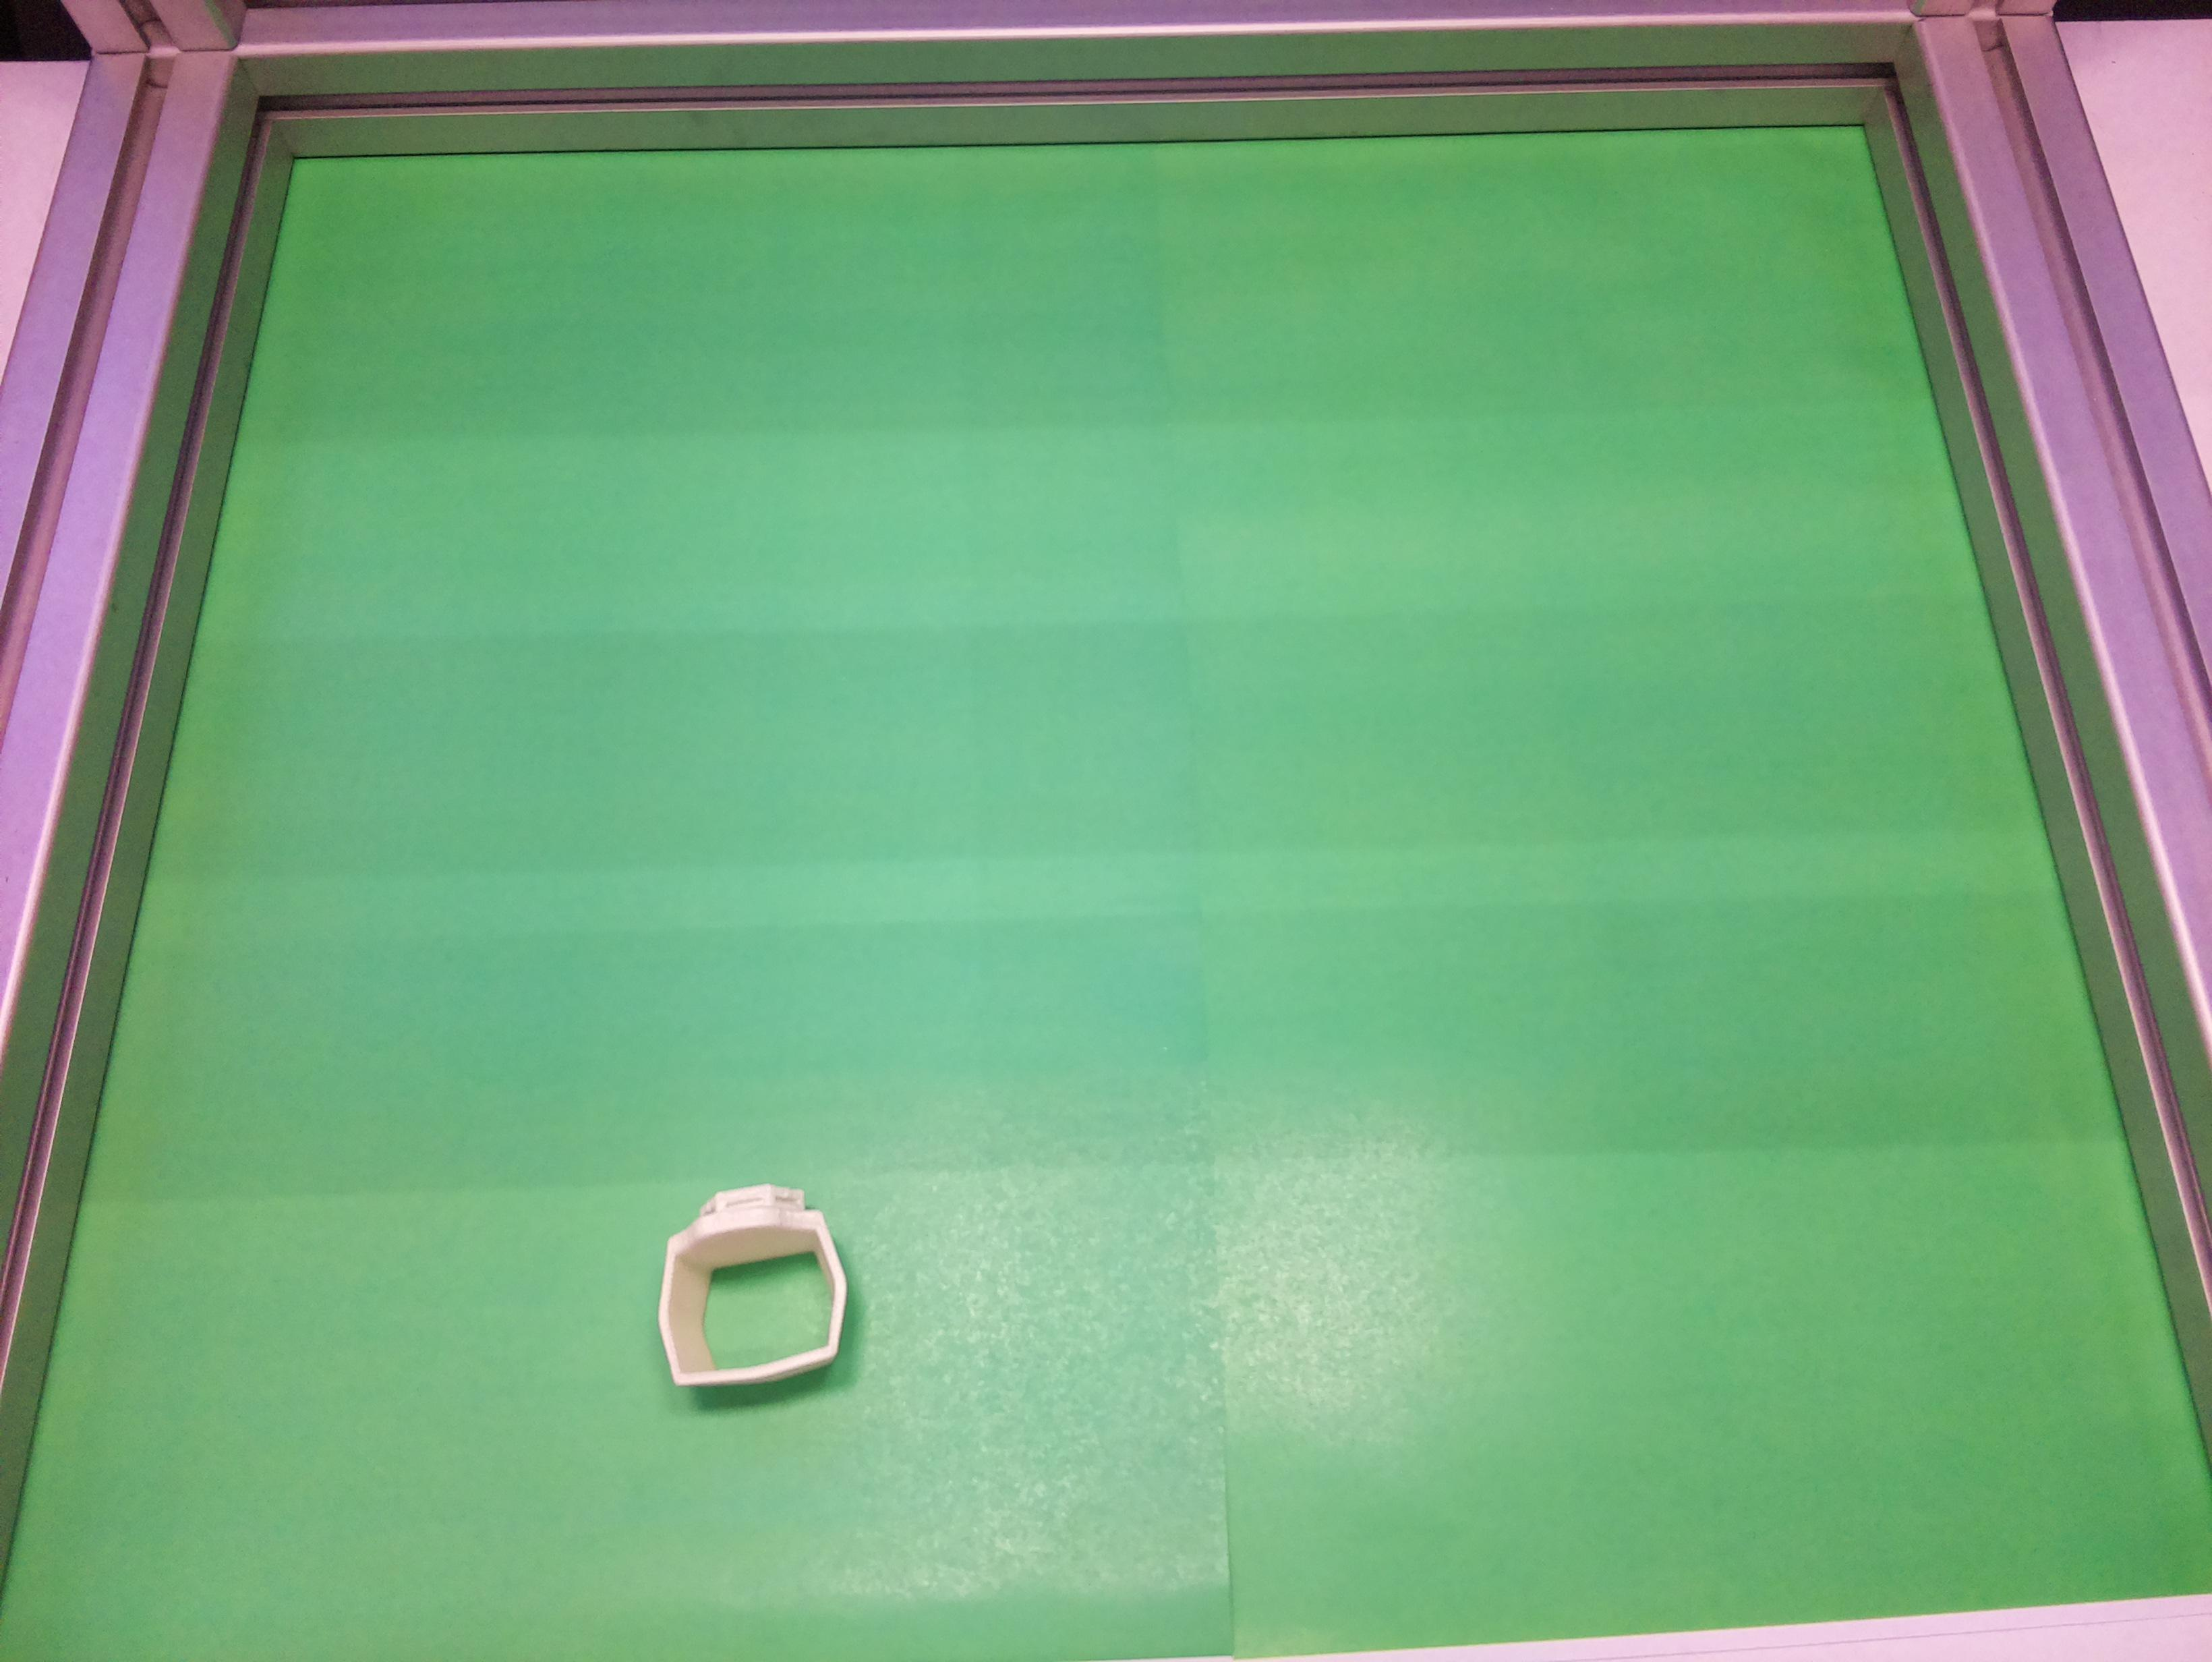tool_holder: (651, 1180, 854, 1390)
